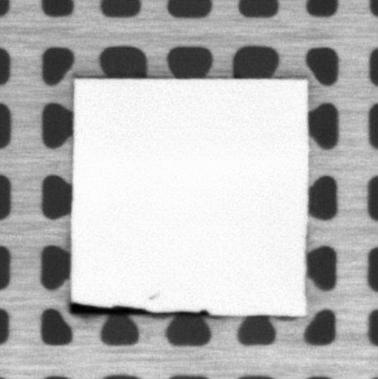DIE_BROKEN: (69, 300, 153, 316), (168, 308, 211, 317)
